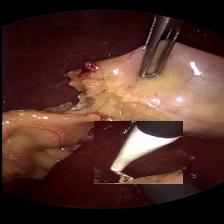Grasper: (130, 23, 184, 82)
Hook: (93, 121, 182, 184)
